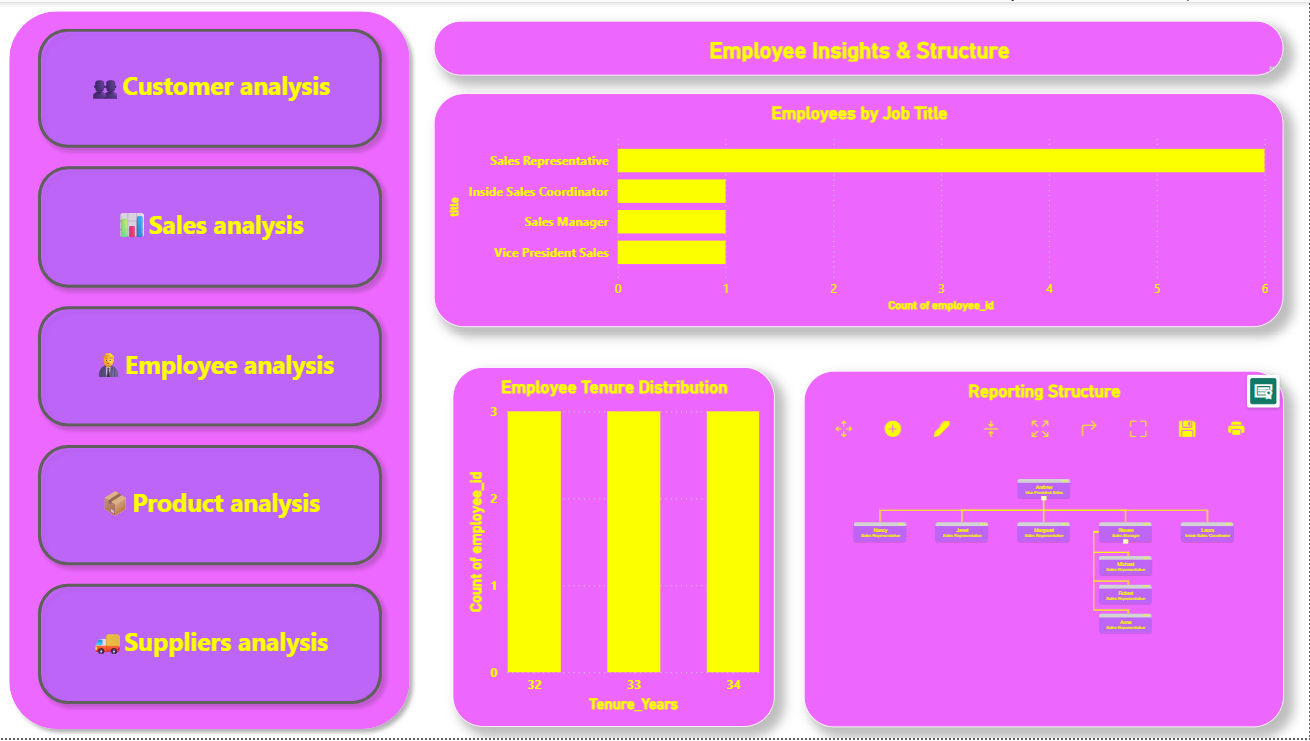

This screenshot's page, from the dashboard's own definition file:
{"tool":"powerbi","page":{"name":" Employee analysis","canvas":[1280,720],"ordinal":3},"visuals":[{"type":"shape","box":[0,0,409.6,720.2],"z":0},{"type":"actionButton","box":[28.1,151.6,354.6,137],"z":1000},{"type":"actionButton","box":[28.1,288.6,354.6,135.7],"z":2000},{"type":"actionButton","box":[28.1,560.1,354.6,135.7],"z":3000},{"type":"actionButton","box":[28.1,424.3,354.6,135.7],"z":4000},{"type":"actionButton","box":[28.1,17.1,354.6,134.5],"z":5000},{"type":"textbox","box":[75.8,45.2,258,78.3],"z":6000},{"type":"textbox","box":[75.8,181,258,78.3],"z":7000},{"type":"textbox","box":[75.8,317.9,258,78.3],"z":8000},{"type":"textbox","box":[75.8,453.7,258,78.3],"z":9000},{"type":"textbox","box":[75.8,589.4,258,78.3],"z":10000},{"type":"textbox","title":"Employee Insights & Structure","box":[424.3,18.3,831.5,53.8],"z":11000},{"type":"barChart","title":"Employees by Job Title","fields":{"Category":["employee.title"],"Y":["CountNonNull(employee.employee_id)"]},"box":[424.3,89.3,831.5,228.7],"z":12000},{"type":"columnChart","title":"Employee Tenure Distribution","fields":{"Category":["employee.Tenure_Years"],"Y":["CountNonNull(employee.employee_id)"]},"box":[442.7,357.1,315.5,352.2],"z":13000},{"type":"orgChart021B261450284A21B688B59A7342AC52","title":"Reporting Structure","fields":{"employeeId":["employee.employee_id"],"name":["employee.first_name"],"jobtitle":["employee.title"],"managerId":["employee.reports_to"]},"box":[786.3,360.7,469.6,348.5],"z":14000}]}

Visuals, with their boxes in screenshot pixels (x1, y1, x2, y2), scaled from the page's 1280x720 canvas onto the 1310x741 screenshot:
shape: locate(0, 0, 419, 740)
actionButton: locate(29, 156, 392, 297)
actionButton: locate(29, 297, 392, 437)
actionButton: locate(29, 576, 392, 716)
actionButton: locate(29, 437, 392, 576)
actionButton: locate(29, 18, 392, 156)
textbox: locate(78, 47, 342, 127)
textbox: locate(78, 186, 342, 267)
textbox: locate(78, 327, 342, 408)
textbox: locate(78, 467, 342, 548)
textbox: locate(78, 607, 342, 687)
"Employee Insights & Structure" textbox: locate(434, 19, 1285, 74)
"Employees by Job Title" barChart: locate(434, 92, 1285, 327)
"Employee Tenure Distribution" columnChart: locate(453, 368, 776, 730)
"Reporting Structure" orgChart021B261450284A21B688B59A7342AC52: locate(805, 371, 1285, 730)
